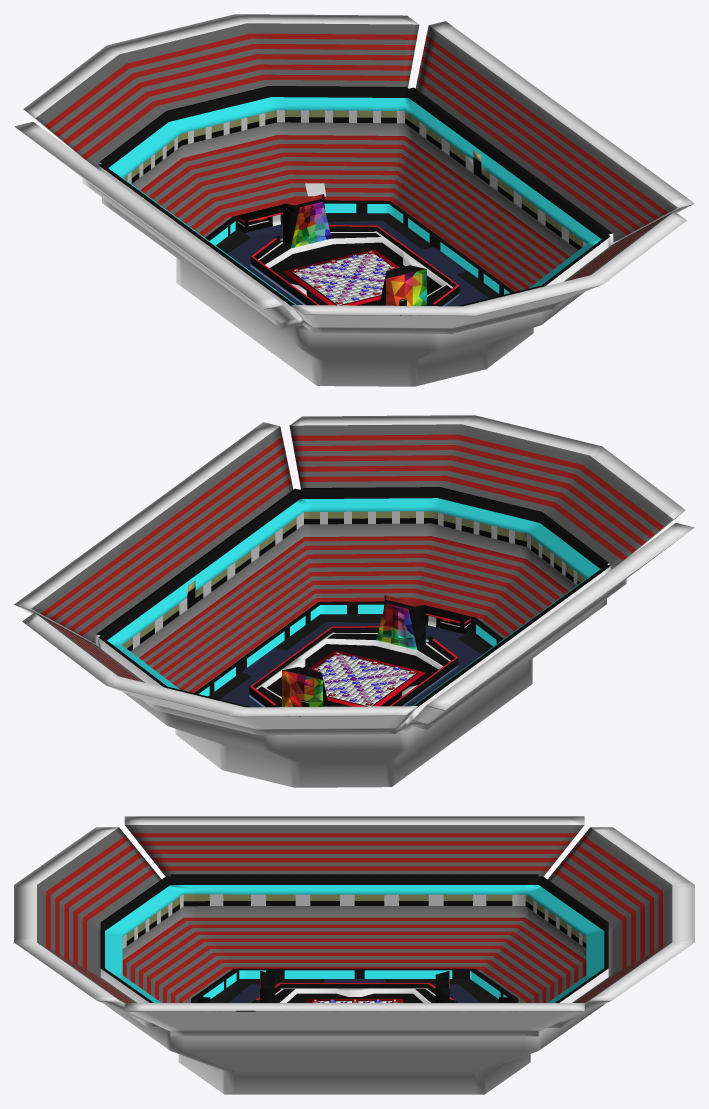
File: board.fbx
3 renders of one model, top to bottom at view 1: azimuth 30°, elevation 25°; view 2: azimuth 150°, elevation 25°; view 3: azimuth 270°, elevation 25°, orthographic. The views are drawn at different scales.
Parts seen in each view (by area): view 1: Cube.000; view 2: Cube.000; view 3: Cube.000.
Boxes of the visible parts, x1=… form: Cube.000: x1=14, y1=14, x2=694, y2=386; Cube.000: x1=14, y1=415, x2=694, y2=787; Cube.000: x1=14, y1=816, x2=694, y2=1094.
Bounding box in the file's own units: 3032 × 962 × 4488.
